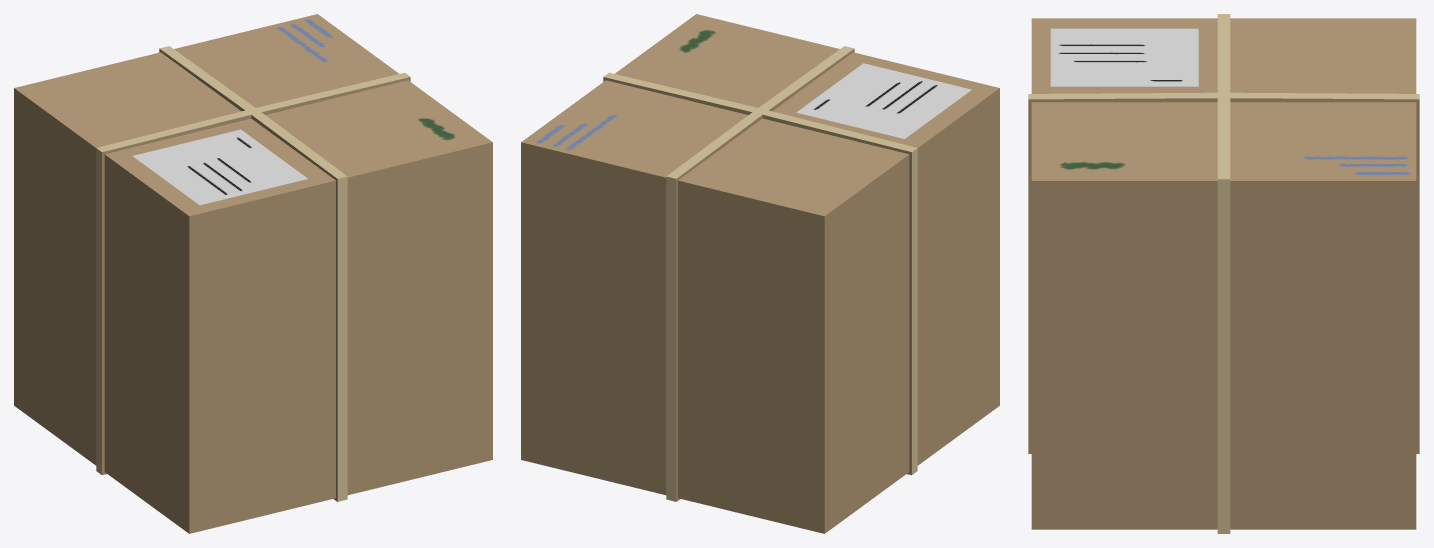
Rendered from cardboard_box2.fbx.
3 views of the same model, side by side, from view 1: azimuth 30°, elevation 25°; view 2: azimuth 150°, elevation 25°; view 3: azimuth 270°, elevation 25° (orthographic). The views are drawn at different scales.
Parts seen in each view (by area): view 1: Cardboard Box; view 2: Cardboard Box; view 3: Cardboard Box.
Part boxes in pixels (left/top/right/bottom): Cardboard Box: left=14, top=14, right=492, bottom=533; Cardboard Box: left=521, top=14, right=999, bottom=533; Cardboard Box: left=1028, top=14, right=1419, bottom=533.
Bounding box in the file's own units: 102 × 102 × 102.
1 material, 1 textured.
